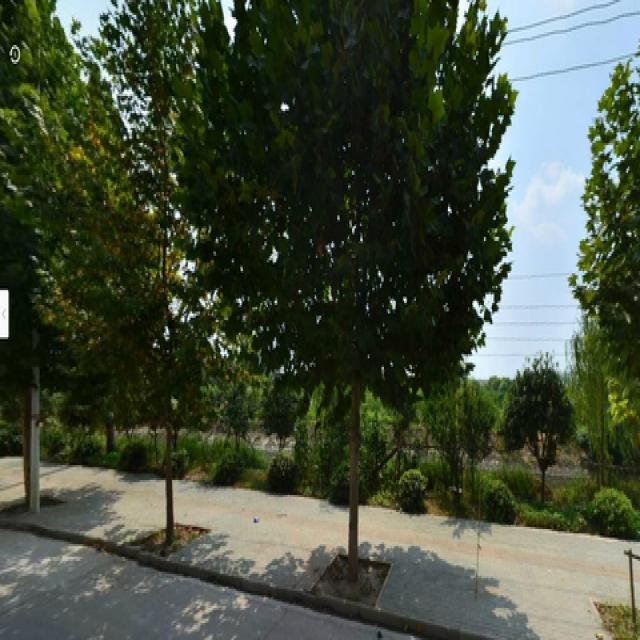meta: (267, 19, 445, 566)
